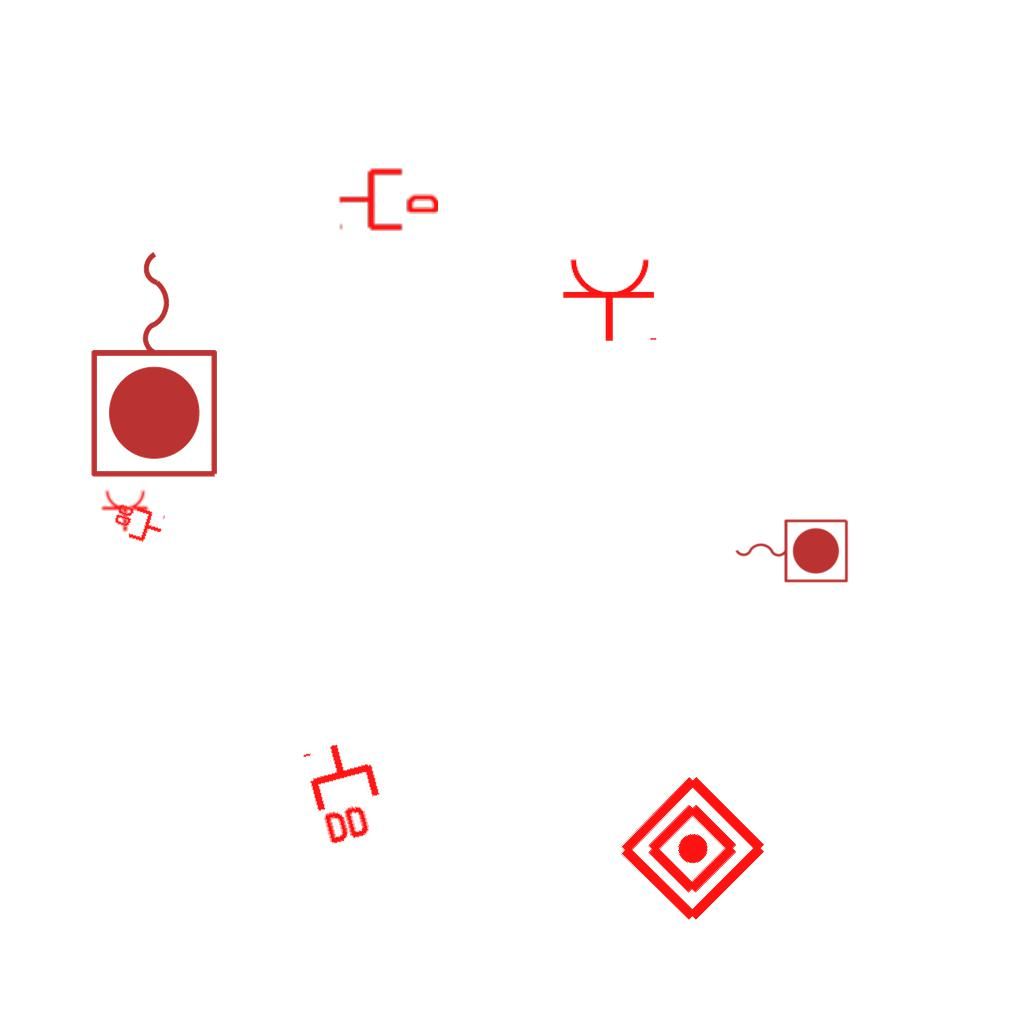Datenanschluss_einfach: (338, 165, 438, 234)
Datenanschluss_zweifach: (300, 732, 395, 851), (108, 500, 168, 549)
NAM-Nichtautomatischer_Melder: (612, 768, 773, 929)
Schukosteckdose_einfach: (561, 256, 661, 343), (101, 489, 151, 532)
Zugtaster: (84, 241, 228, 485), (730, 514, 852, 586)
